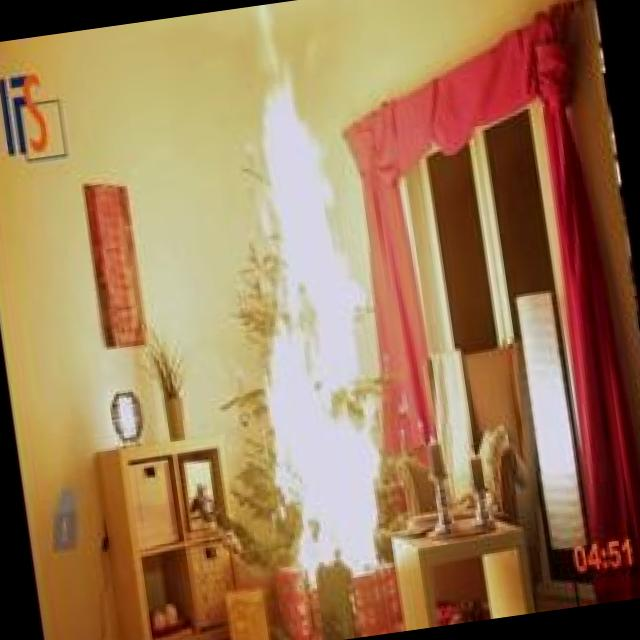fire: (159, 0, 439, 603)
